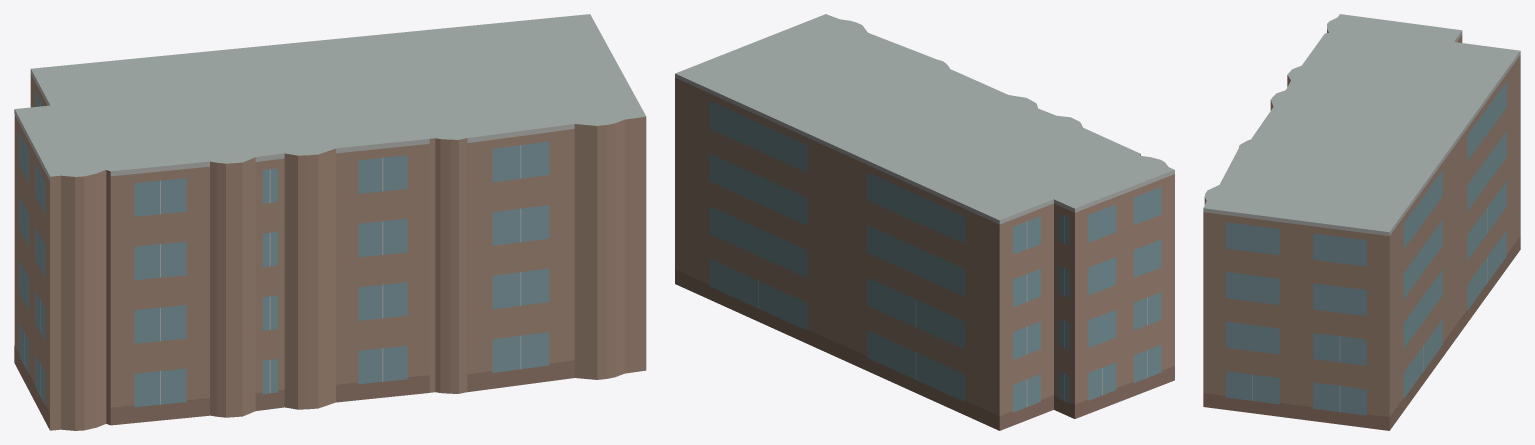
File: survey-upis-33013433.glb
3 views of the same model, side by side, from view 1: azimuth 30°, elevation 25°; view 2: azimuth 150°, elevation 25°; view 3: azimuth 270°, elevation 25° (orthographic). The views are drawn at different scales.
Parts seen in each view (by area): view 1: survey-upis-33013433.tmp; view 2: survey-upis-33013433.tmp; view 3: survey-upis-33013433.tmp.
Boxes of the visible parts, x1,y1,x2,y2 form: survey-upis-33013433.tmp: [14, 14, 646, 430]; survey-upis-33013433.tmp: [675, 14, 1174, 430]; survey-upis-33013433.tmp: [1203, 14, 1520, 430].
Size of the model in its own units: 29.1 by 12.35 by 17.89.
